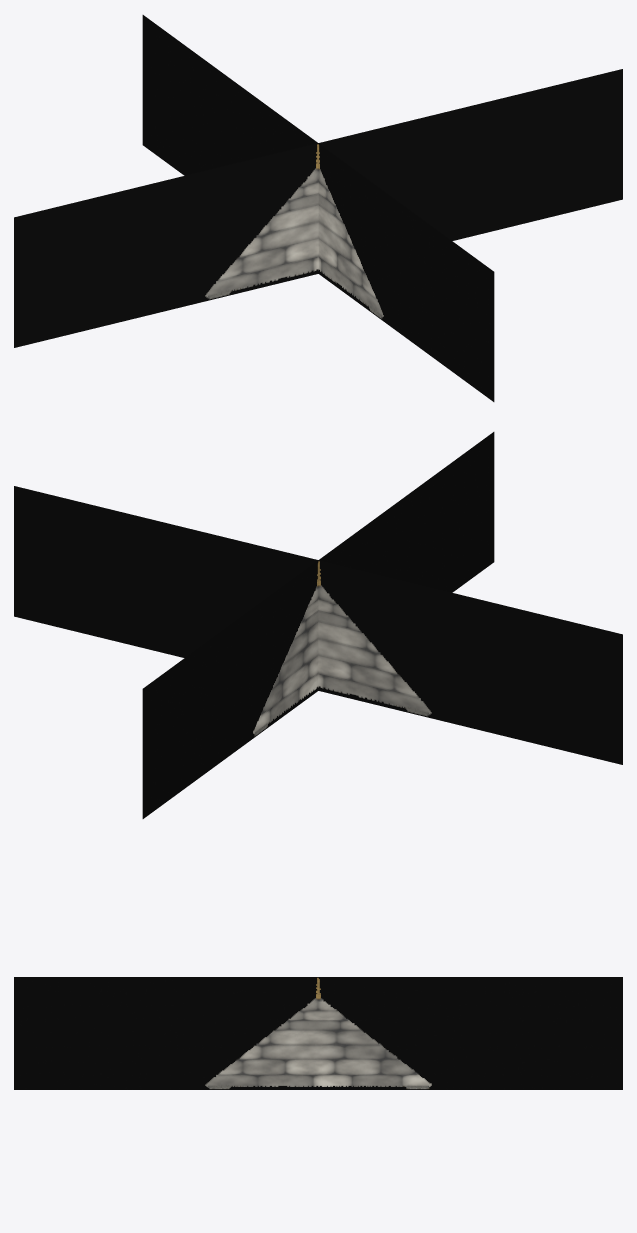
File: Palace_Hall_Roof_1_BB.gltf
3 views of the same model, one above another, from view 1: azimuth 30°, elevation 25°; view 2: azimuth 150°, elevation 25°; view 3: azimuth 270°, elevation 25° (orthographic). The views are drawn at different scales.
Parts seen in each view (by area): view 1: Palace_Hall_Roof_1_BB; view 2: Palace_Hall_Roof_1_BB; view 3: Palace_Hall_Roof_1_BB.
Part boxes in pixels (<box>): Palace_Hall_Roof_1_BB: <box>14,15,622,401</box>; Palace_Hall_Roof_1_BB: <box>14,432,622,818</box>; Palace_Hall_Roof_1_BB: <box>14,977,622,1089</box>.
Size of the model in its own units: 75.71 by 15.53 by 75.71.
1 material, 1 textured.
